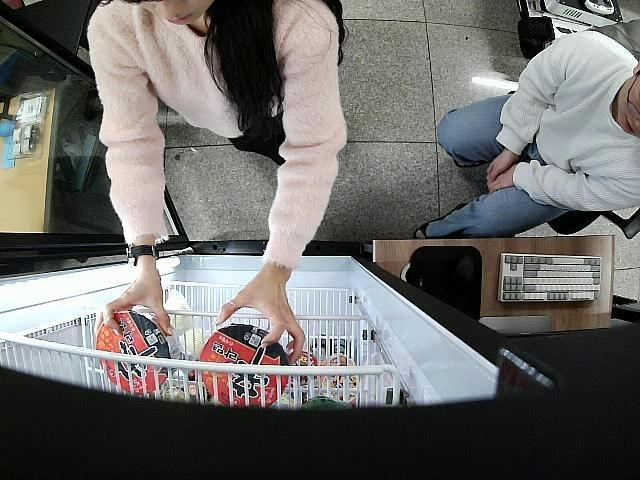01_ShinRamen_L: (198, 322, 292, 408), (94, 309, 185, 392)
